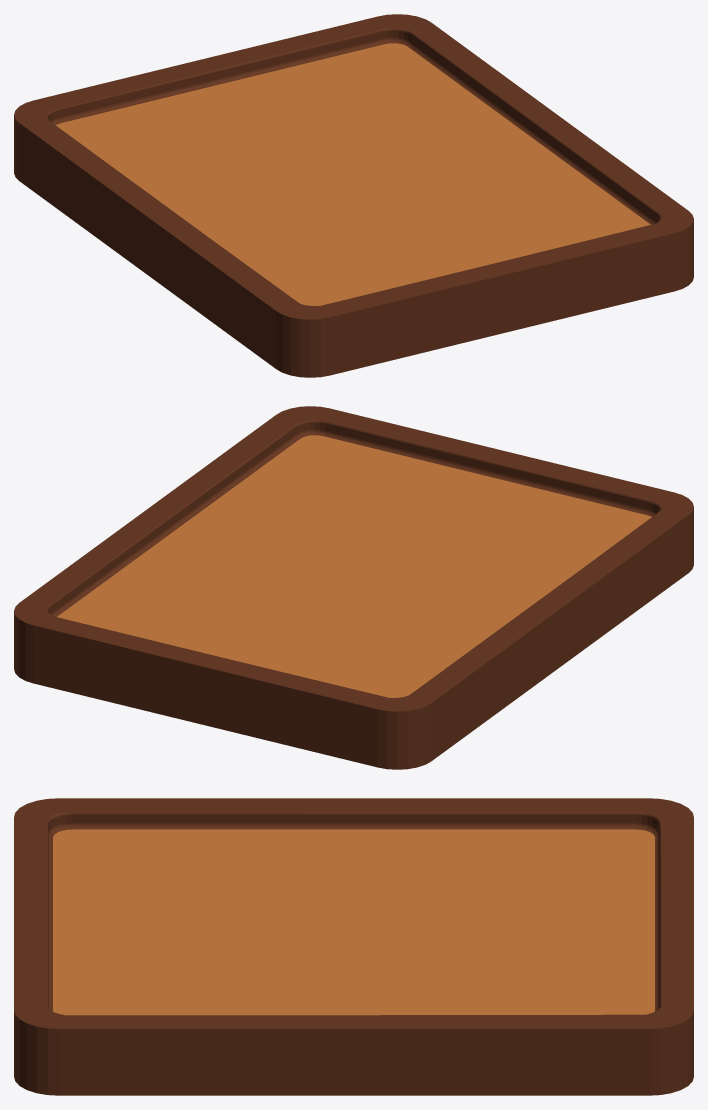
Rendered from PopUp1.fbx.
3 views of the same model, one above another, from view 1: azimuth 30°, elevation 25°; view 2: azimuth 150°, elevation 25°; view 3: azimuth 270°, elevation 25° (orthographic). The views are drawn at different scales.
Parts seen in each view (by area): view 1: Cube; view 2: Cube; view 3: Cube.
Part boxes in pixels (box(x1,y1,x2,y2)): Cube: box(14, 14, 693, 377); Cube: box(14, 406, 693, 769); Cube: box(14, 798, 693, 1095).
Bounding box in the file's own units: 545 × 73.5 × 679.
